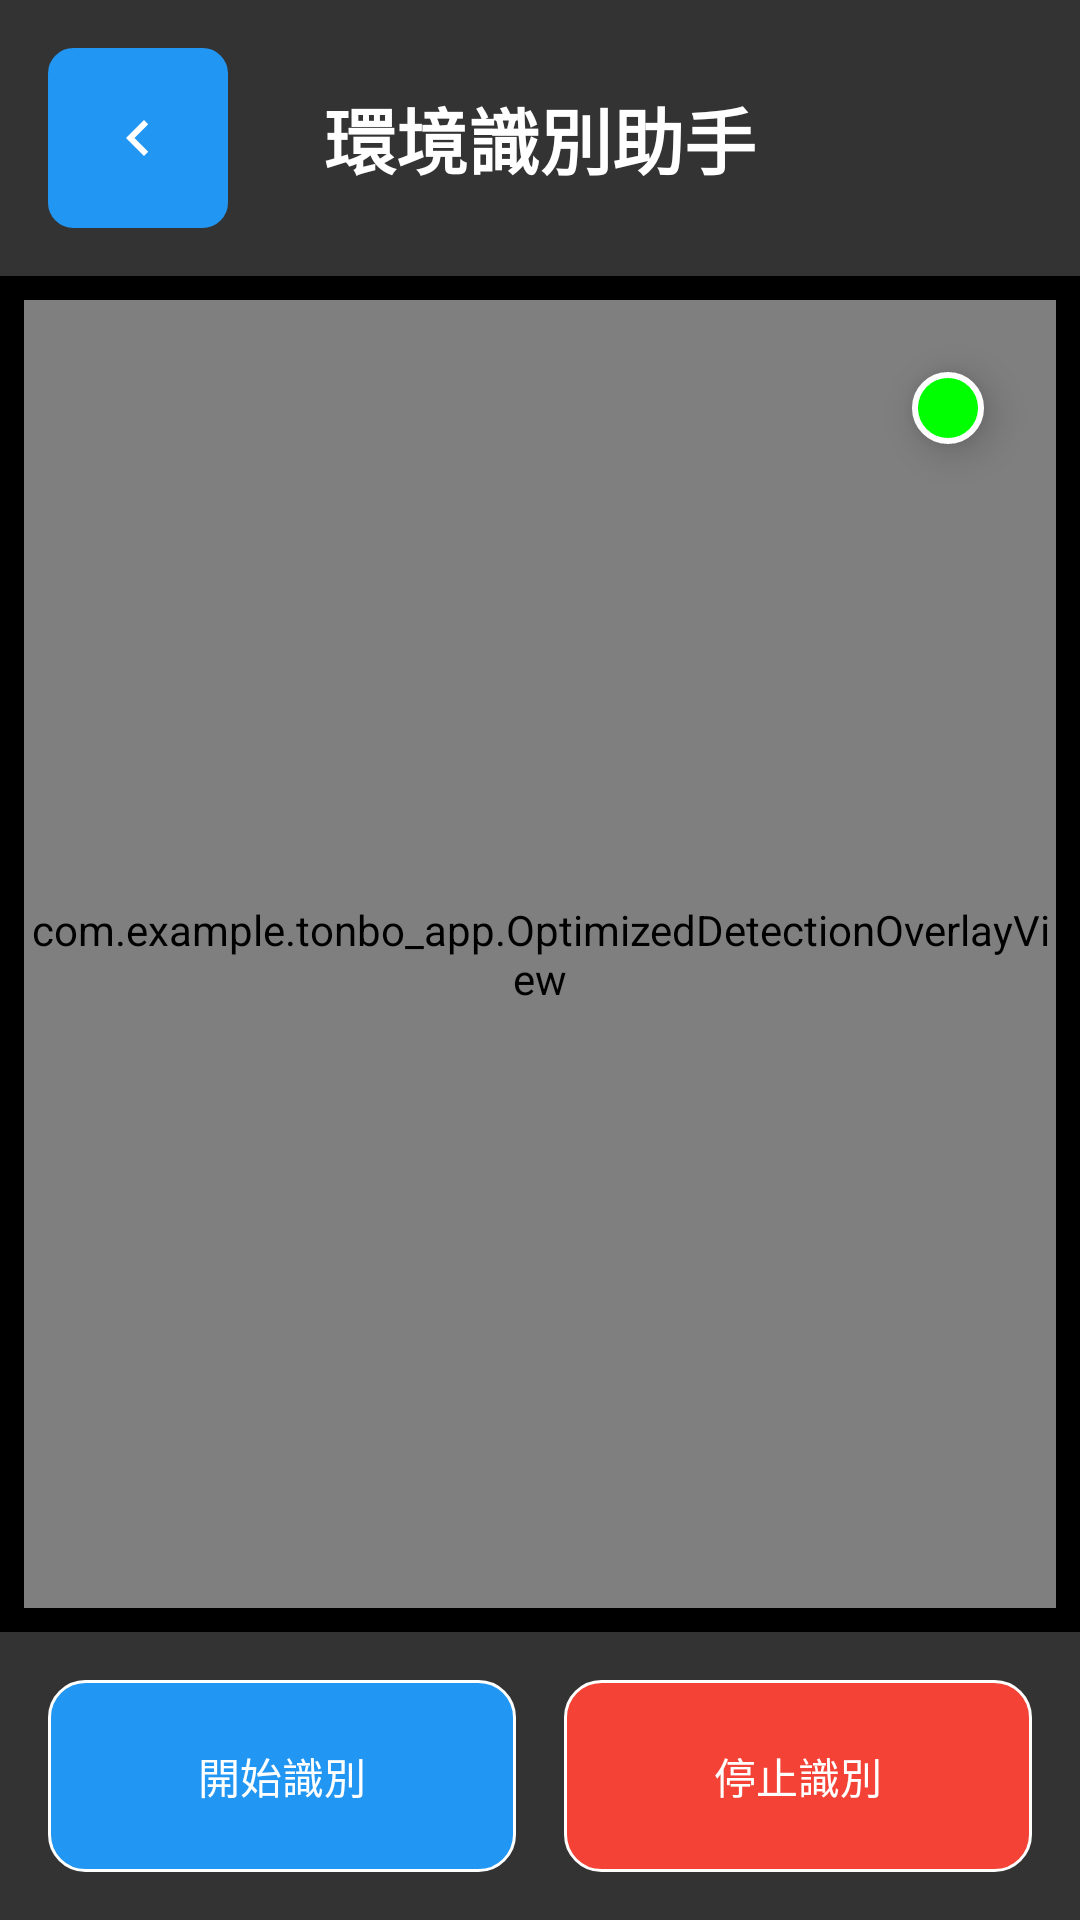

Where to tap for icons on this 1080x1920 app screen, as point (x, y):
返回主頁: point (138, 138)
